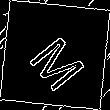M_NE: (21, 21, 89, 89)
